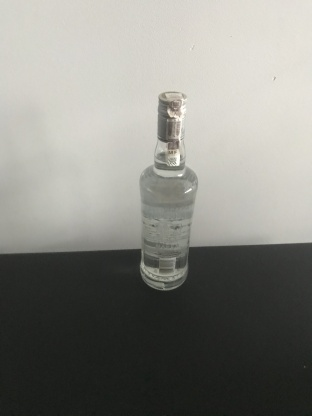nakretka: (155, 89, 189, 143)
